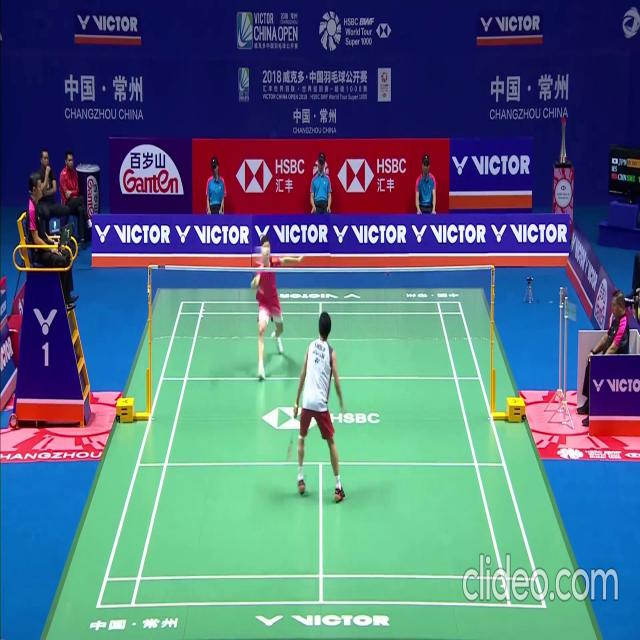Shuttlecock: (260, 248, 265, 255)
